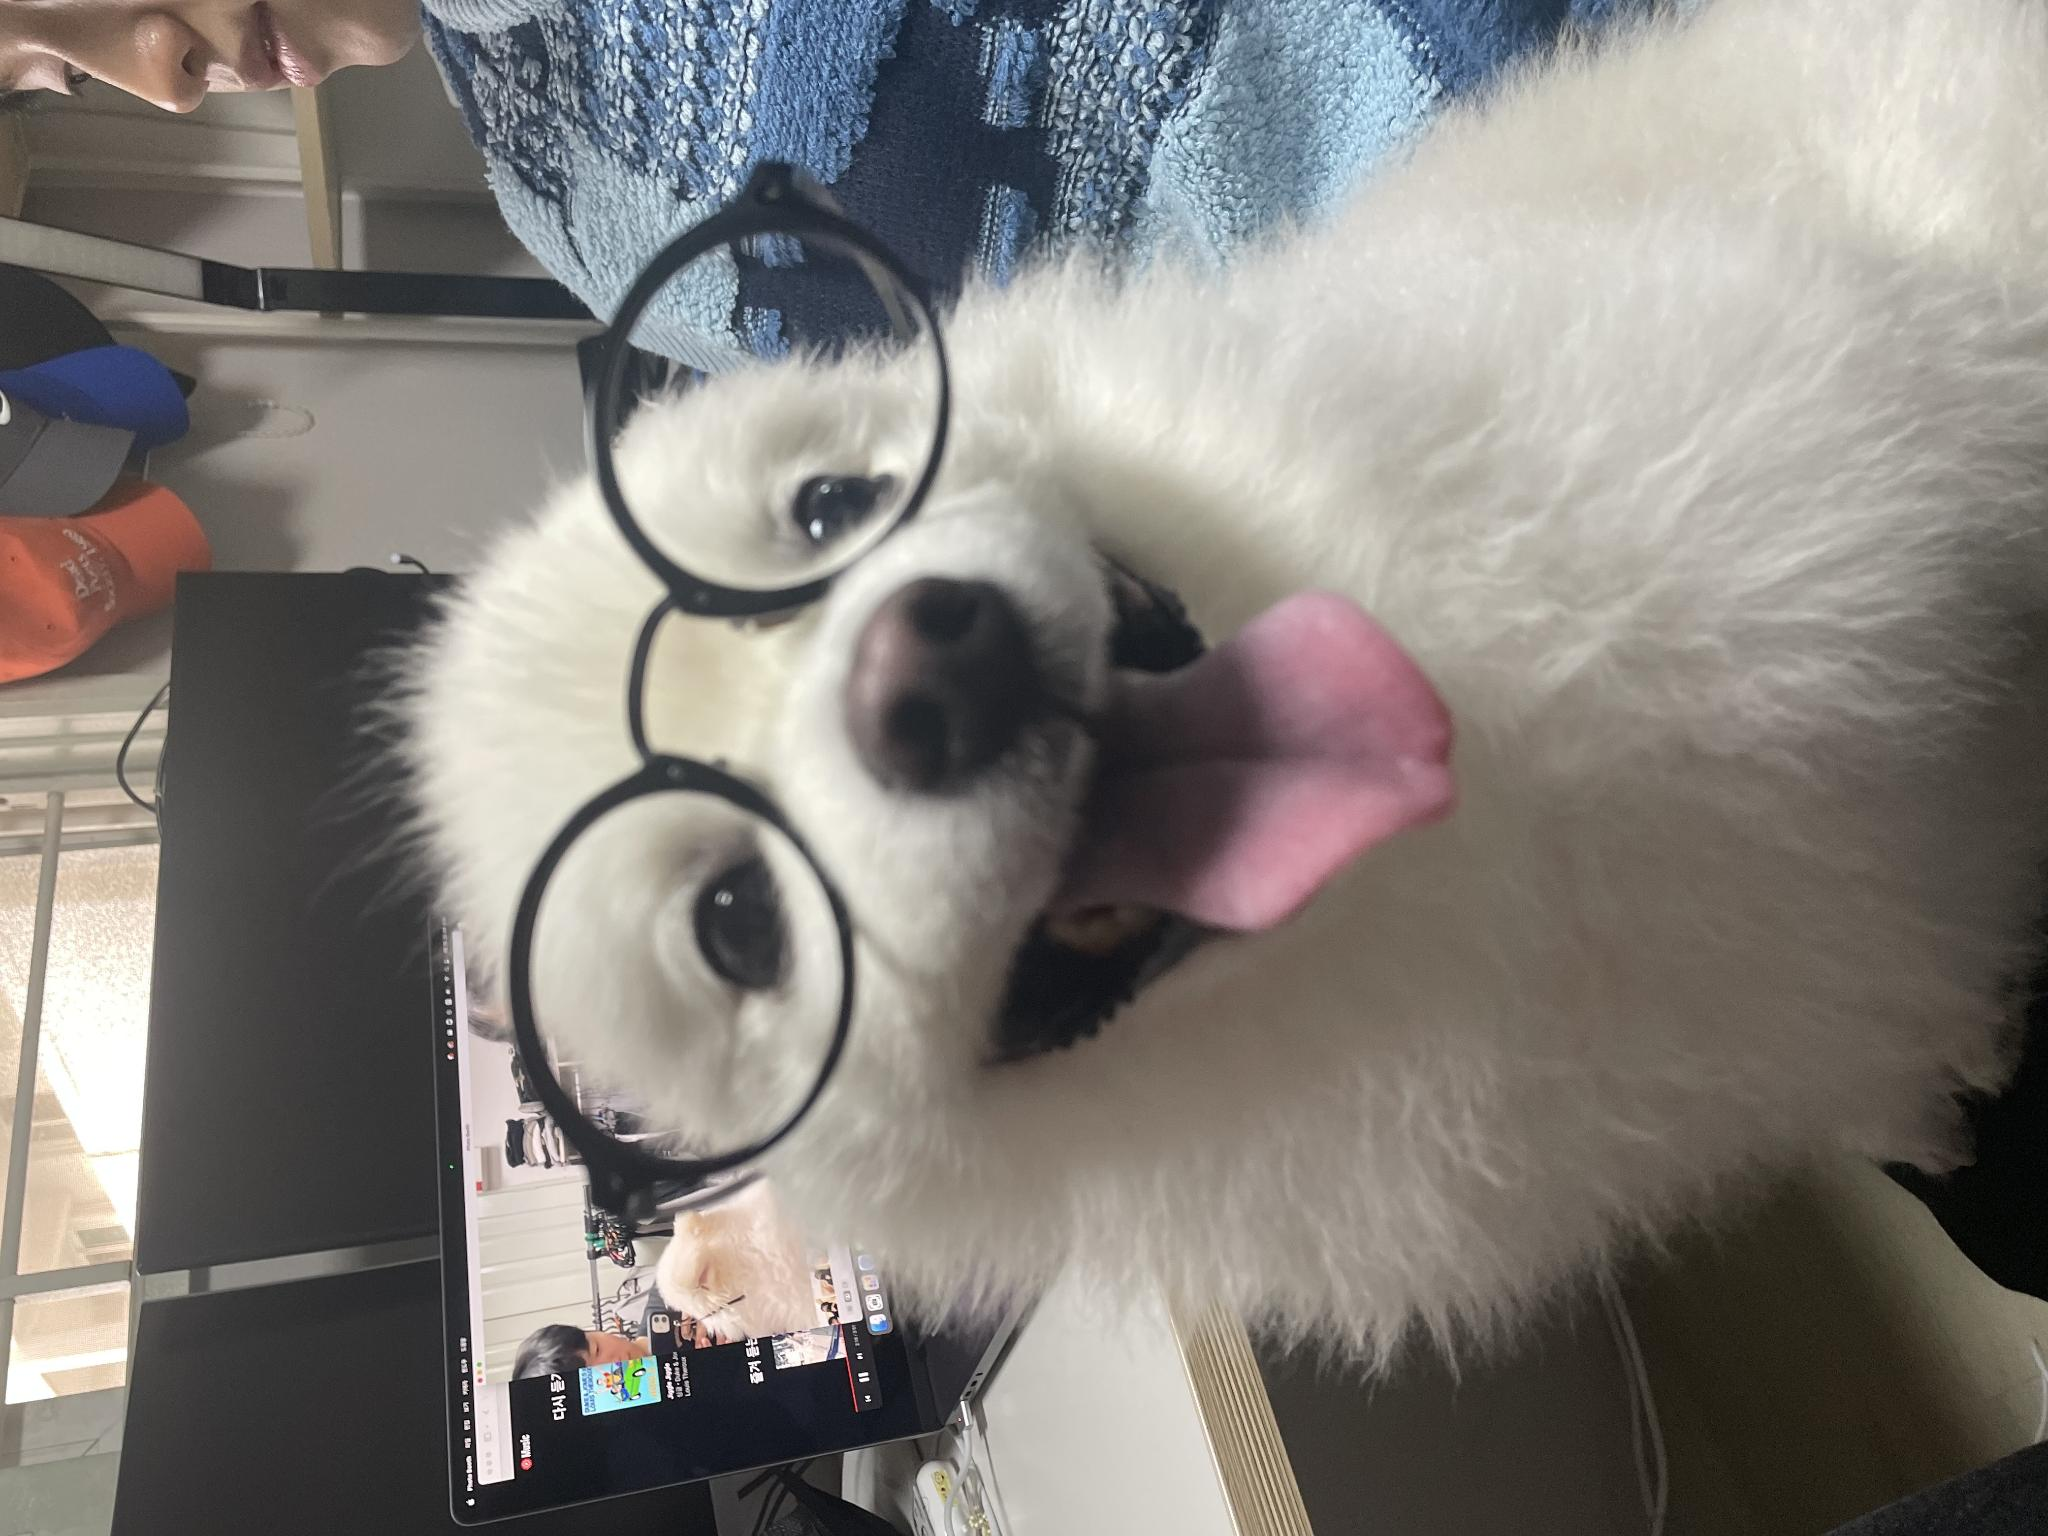dog: (139, 340, 1532, 1536)
